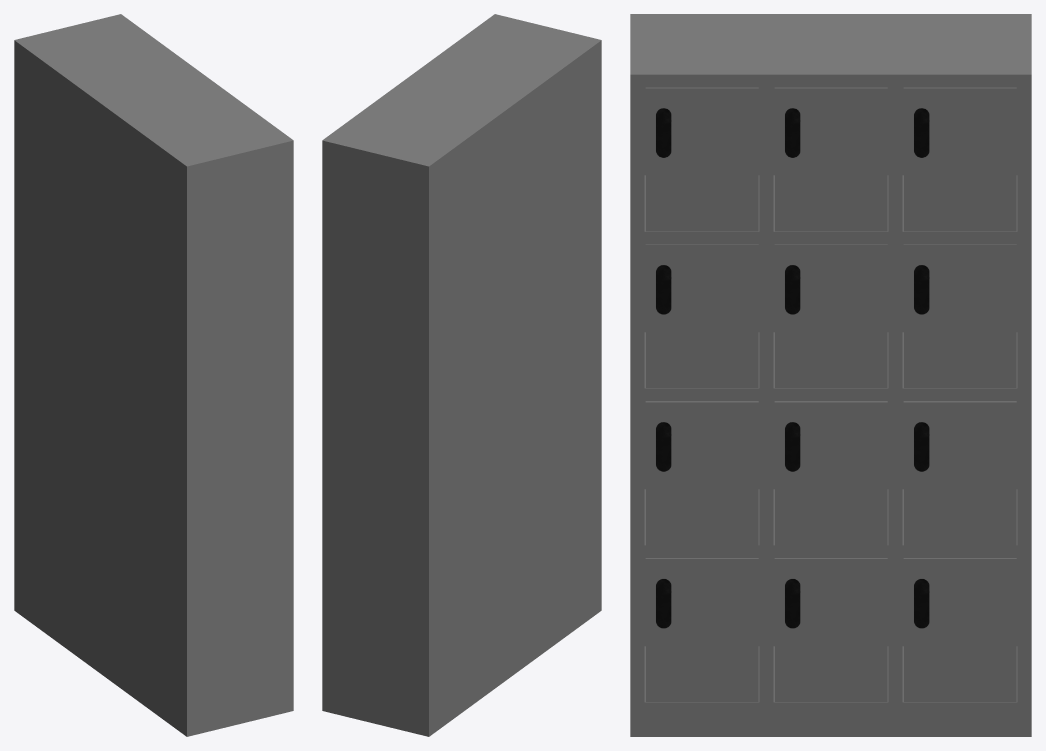
Rendered from Locker.fbx.
3 renders of one model, left to right at view 1: azimuth 30°, elevation 25°; view 2: azimuth 150°, elevation 25°; view 3: azimuth 270°, elevation 25°, orthographic. The views are drawn at different scales.
Visible parts, largest first — view 1: LockerBase; view 2: LockerBase; view 3: LockerBase, LockerDoor.006, LockerDoor.007, LockerDoor.008, LockerDoor, LockerDoor.001, LockerDoor.002, LockerDoor.009, LockerDoor.010, LockerDoor.011, LockerDoor.003, LockerDoor.004 (+1 smaller).
Part boxes in pixels (<box>): LockerBase: <box>14,14,293,736</box>; LockerBase: <box>322,14,601,736</box>; LockerBase: <box>630,14,1031,736</box>; LockerDoor.006: <box>645,401,758,545</box>; LockerDoor.007: <box>774,401,887,545</box>; LockerDoor.008: <box>903,401,1016,545</box>; LockerDoor: <box>645,87,758,231</box>; LockerDoor.001: <box>774,87,887,231</box>; LockerDoor.002: <box>903,87,1016,231</box>; LockerDoor.009: <box>645,558,758,701</box>; LockerDoor.010: <box>774,558,887,701</box>; LockerDoor.011: <box>903,558,1016,701</box>; LockerDoor.003: <box>645,244,758,387</box>; LockerDoor.004: <box>774,244,887,387</box>.
Size of the model in its own units: 38.19 by 194 by 107.
